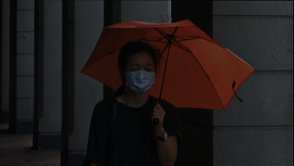with_mask: (123, 61, 157, 94)
